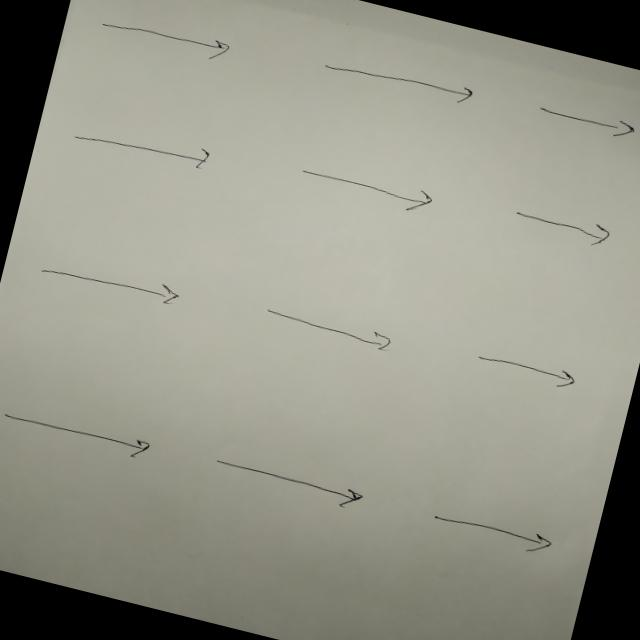arrow_line_right: (196, 439, 380, 526), (284, 148, 448, 226), (0, 394, 166, 468), (62, 108, 229, 181), (86, 2, 242, 78), (310, 47, 481, 116), (414, 494, 566, 570), (29, 248, 190, 318), (492, 192, 632, 263), (252, 296, 402, 360), (460, 338, 590, 398), (520, 89, 640, 151)
